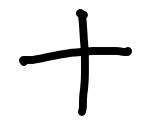plus: (16, 9, 131, 115)
